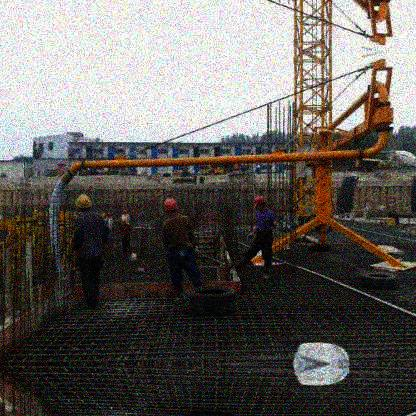helmet: (73, 193, 92, 214), (163, 200, 177, 215), (254, 195, 265, 211)
